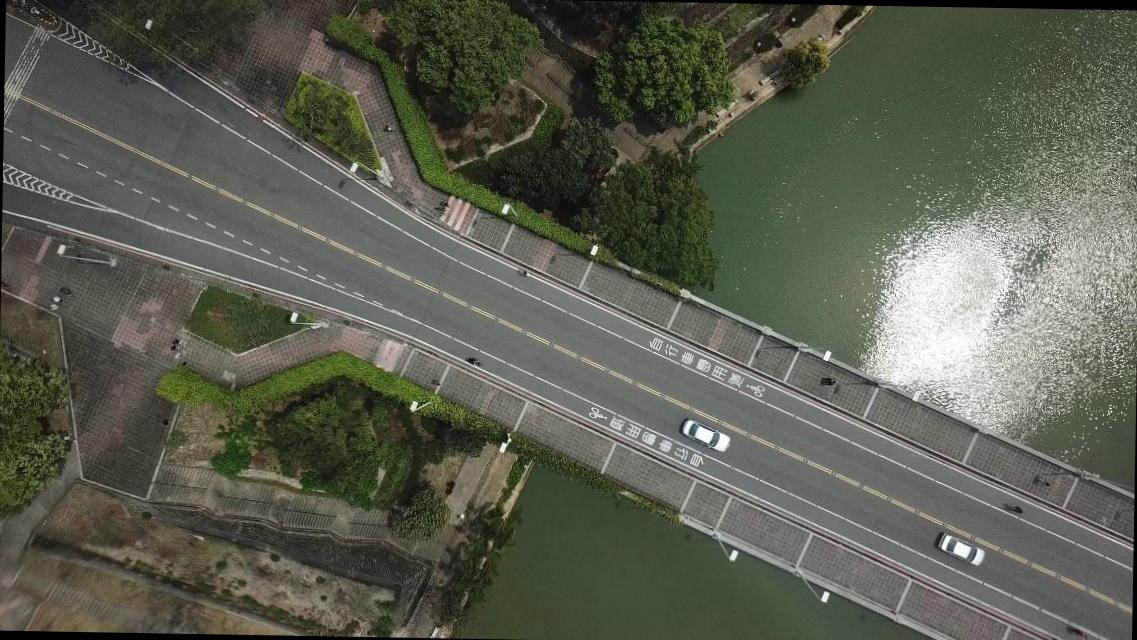vehicle: (680, 417, 732, 453), (936, 532, 986, 566)
